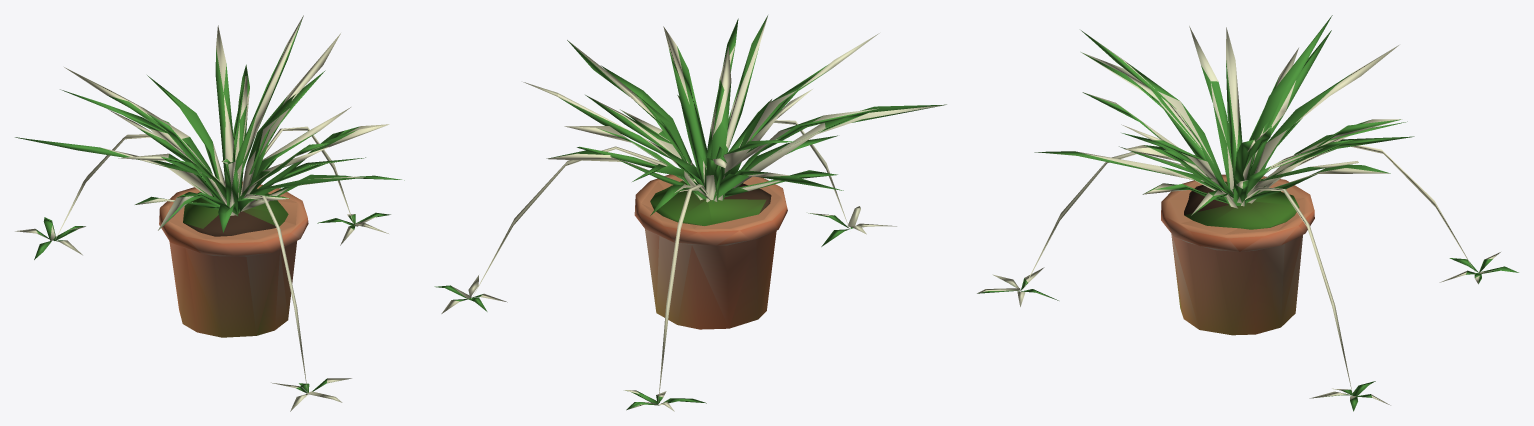
The model's file is canopy_spider_plant_lod2.glb.
The picture shows the model from 3 angles, left to right: view 1: azimuth 30°, elevation 25°; view 2: azimuth 150°, elevation 25°; view 3: azimuth 270°, elevation 25°; orthographic projection. The views are drawn at different scales.
Visible parts, largest first — view 1: canopy_spider_plant.001; view 2: canopy_spider_plant.001; view 3: canopy_spider_plant.001.
Part boxes in pixels (x1,y1,x2,y2): canopy_spider_plant.001: (15, 15, 404, 411); canopy_spider_plant.001: (434, 15, 946, 411); canopy_spider_plant.001: (977, 15, 1518, 411).
Size of the model in its own units: 13.33 by 7.92 by 15.63.
